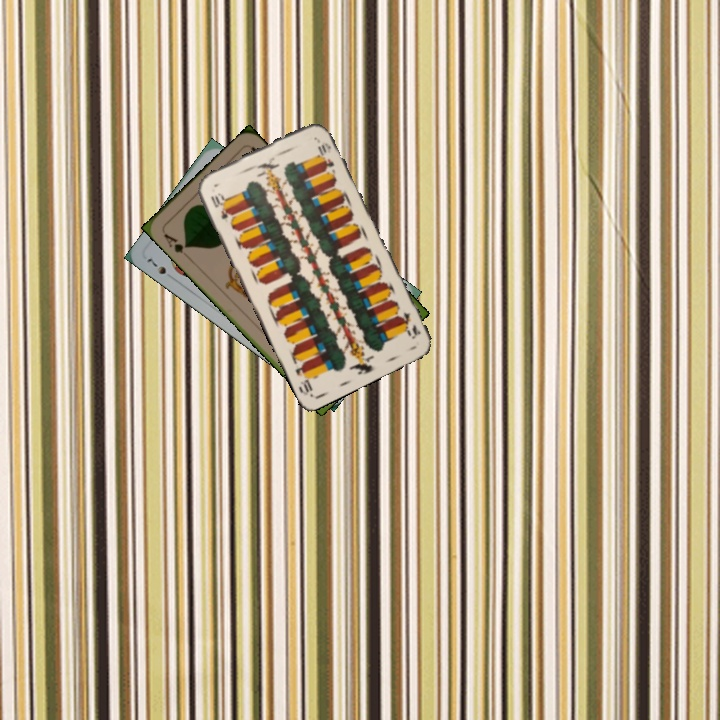E10: (393, 305, 424, 342), (206, 189, 232, 222)
GA: (160, 229, 191, 256)
S7: (143, 254, 177, 283)
